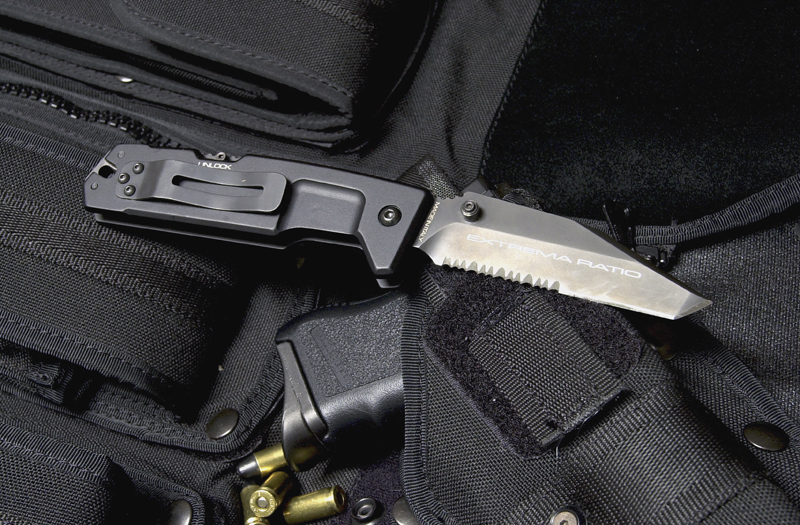knife: (402, 180, 739, 328)
